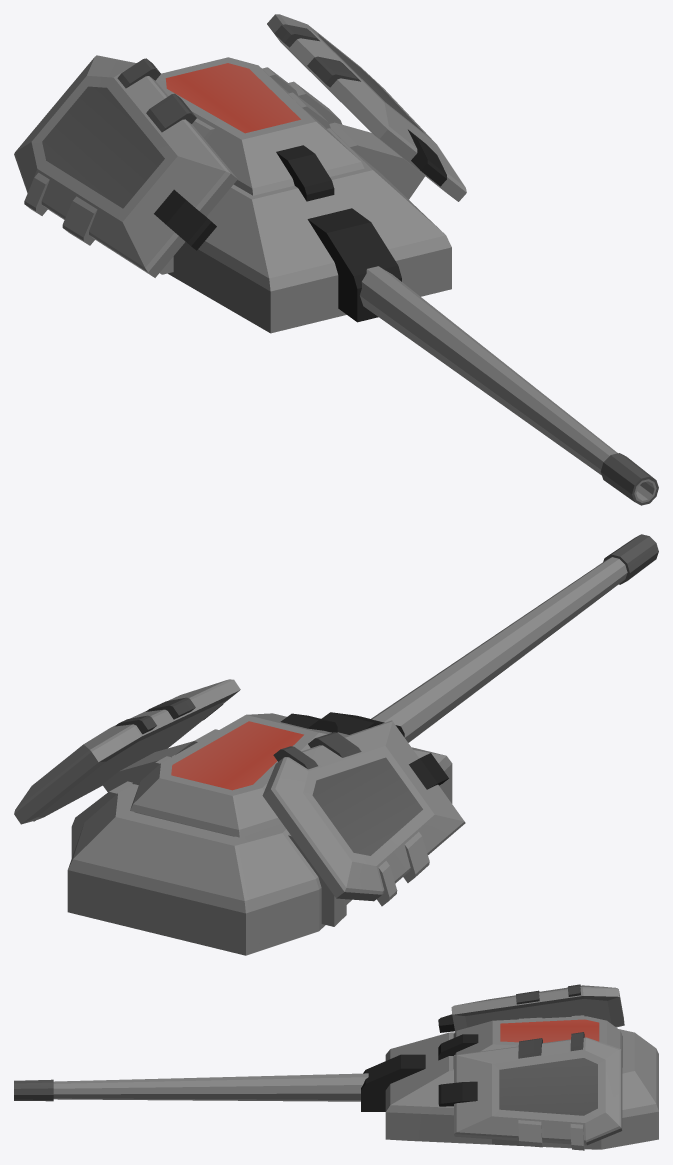
File: model_polyfleet_battleship_canon05.fbx
The picture shows the model from 3 angles, top to bottom: view 1: azimuth 30°, elevation 25°; view 2: azimuth 150°, elevation 25°; view 3: azimuth 270°, elevation 25°; orthographic projection. The views are drawn at different scales.
Visible parts, largest first — view 1: model_cannon05, model_cannon_small_barrels; view 2: model_cannon05, model_cannon_small_barrels; view 3: model_cannon05, model_cannon_small_barrels.
Part boxes in pixels (<box>): model_cannon05: <box>14,14,466,333</box>; model_cannon_small_barrels: <box>360,266,658,505</box>; model_cannon05: <box>14,679,465,955</box>; model_cannon_small_barrels: <box>371,534,658,742</box>; model_cannon05: <box>361,984,658,1150</box>; model_cannon_small_barrels: <box>14,1073,368,1101</box>.
Size of the model in its own units: 365 by 156 by 844.
